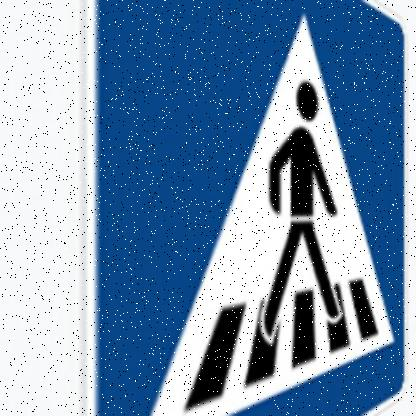Pedestrian Crossing: (82, 1, 408, 416)
